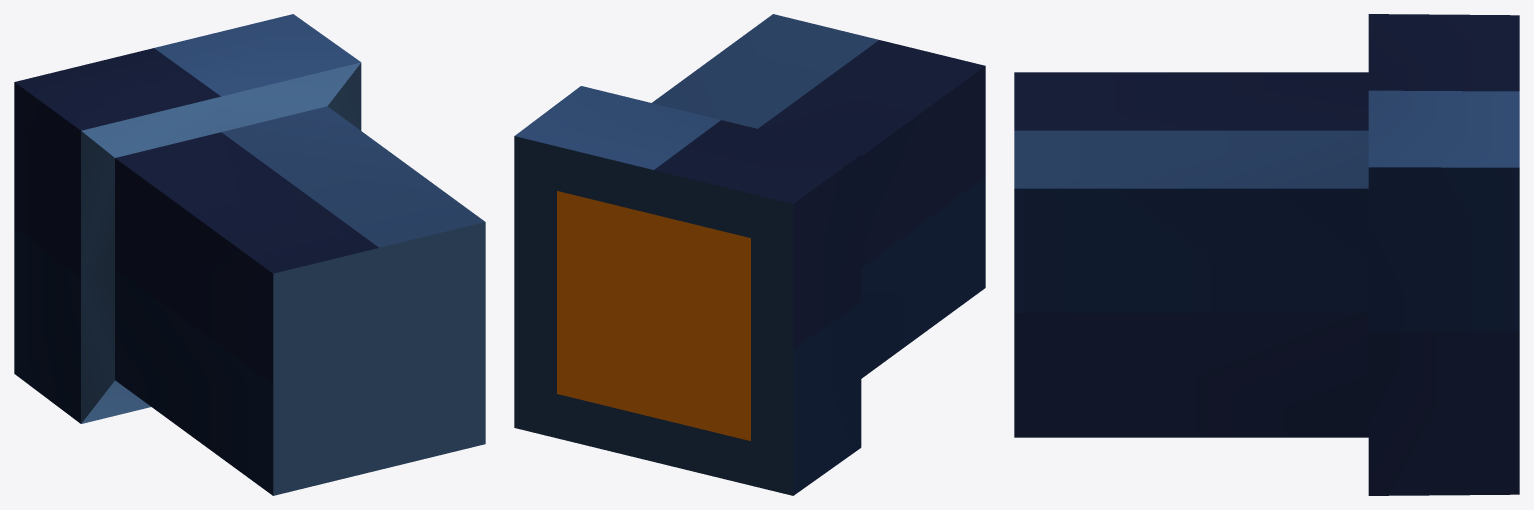
Rendered from Projectile_Soldier.fbx.
The picture shows the model from 3 angles, left to right: view 1: azimuth 30°, elevation 25°; view 2: azimuth 150°, elevation 25°; view 3: azimuth 270°, elevation 25°; orthographic projection. The views are drawn at different scales.
Parts seen in each view (by area): view 1: PRJ_Soldier; view 2: PRJ_Soldier; view 3: PRJ_Soldier.
Part boxes in pixels (left/top/right/bottom): PRJ_Soldier: left=14, top=14, right=485, bottom=495; PRJ_Soldier: left=514, top=14, right=985, bottom=495; PRJ_Soldier: left=1014, top=14, right=1519, bottom=495.
Size of the model in its own units: 25.6 by 25.6 by 35.66.
